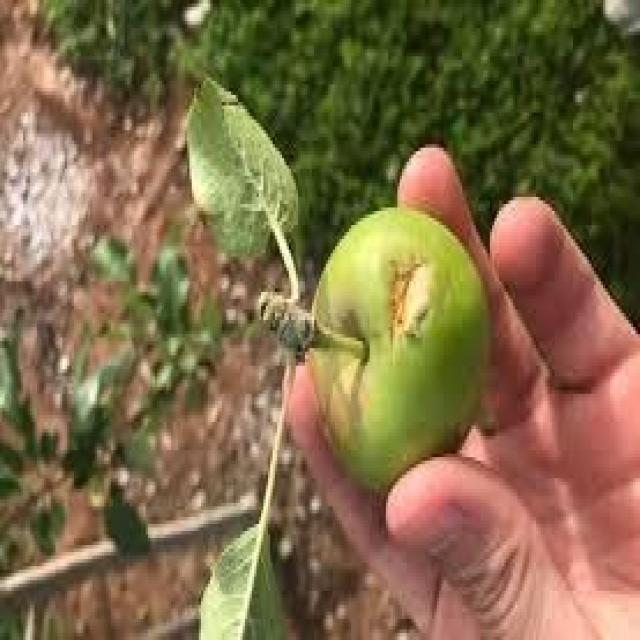maca: (302, 204, 494, 496)
